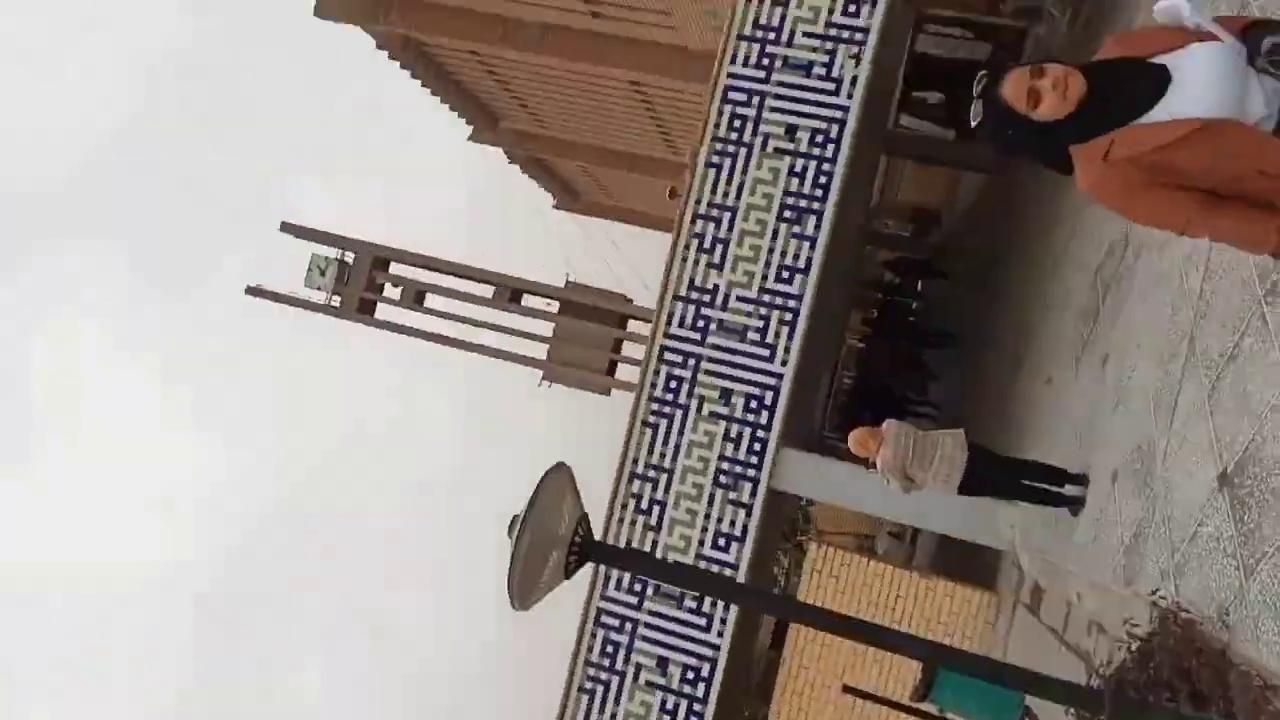person: (843, 1, 1279, 718), (972, 2, 1279, 260), (821, 205, 958, 446), (846, 417, 1089, 517)
tree: (1097, 588, 1278, 718)
